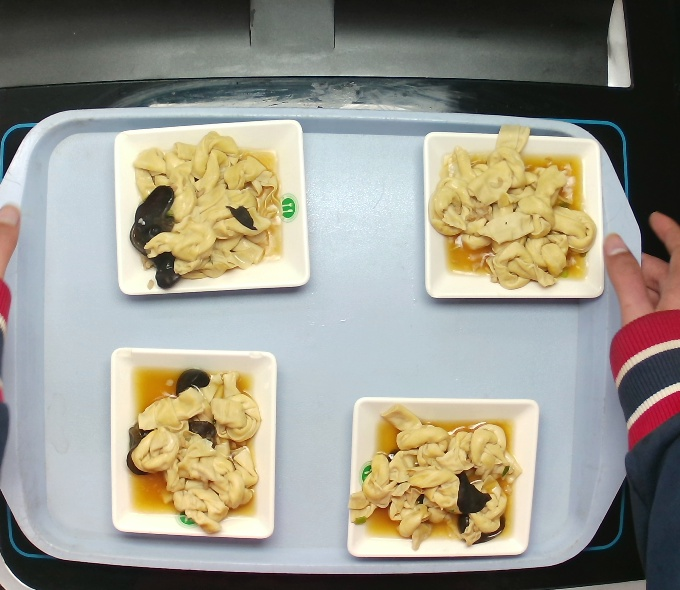wcq-QianZhangJie: (127, 132, 296, 297), (427, 137, 599, 290), (123, 366, 268, 531), (355, 416, 516, 545)
